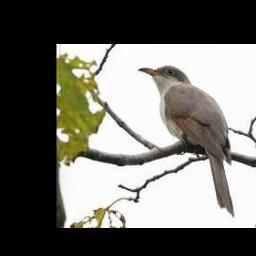Cuckoo: (138, 65, 234, 216)
